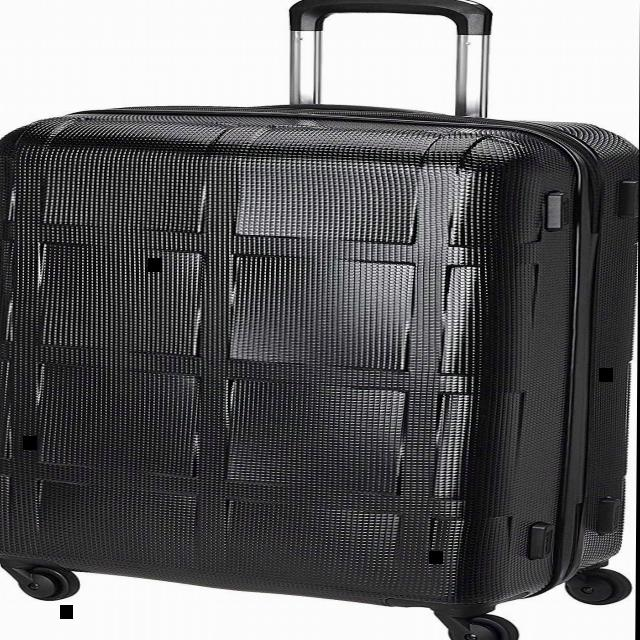luggage: (0, 92, 639, 622)
